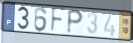3: (16, 5, 31, 32), (86, 12, 99, 36)
4: (103, 12, 117, 38)
6: (34, 6, 48, 34)
F: (50, 6, 67, 35)
P: (66, 9, 85, 36)
